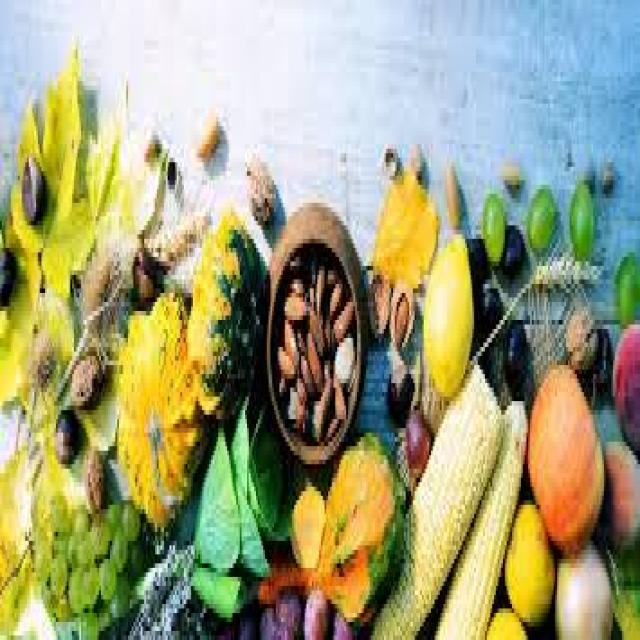biodegradable: (368, 361, 501, 636), (114, 284, 207, 532), (188, 392, 292, 613), (8, 45, 98, 298), (433, 397, 526, 636), (0, 194, 74, 428), (314, 428, 402, 622), (184, 207, 263, 419), (525, 361, 602, 555), (0, 415, 65, 636), (474, 243, 600, 356), (422, 230, 470, 397), (372, 158, 437, 279), (128, 537, 200, 636), (83, 72, 128, 225), (503, 496, 553, 622), (554, 537, 610, 636), (597, 537, 638, 636), (610, 316, 639, 451), (602, 437, 638, 541), (87, 234, 125, 329), (148, 207, 209, 266), (256, 555, 314, 609), (289, 478, 325, 559), (69, 343, 105, 406), (564, 298, 595, 370), (244, 149, 273, 225), (27, 325, 56, 397), (130, 244, 162, 307), (568, 176, 591, 261), (388, 271, 411, 352), (527, 180, 554, 248), (615, 248, 638, 324), (474, 279, 503, 338), (53, 406, 80, 469), (386, 361, 415, 419), (503, 316, 526, 388), (366, 266, 389, 338), (22, 149, 45, 221), (404, 406, 429, 469), (301, 582, 330, 636), (483, 189, 503, 266), (272, 582, 299, 636), (485, 600, 525, 636), (592, 320, 610, 392), (444, 158, 462, 230), (499, 225, 523, 275), (332, 329, 353, 383), (29, 528, 50, 582), (85, 442, 101, 509), (63, 563, 83, 613), (467, 230, 487, 279), (298, 352, 318, 401), (27, 478, 45, 532), (195, 113, 216, 158), (303, 329, 319, 388), (110, 568, 133, 608), (231, 604, 260, 635), (0, 243, 14, 306), (328, 600, 352, 636), (307, 302, 323, 356), (43, 586, 67, 622), (258, 604, 285, 635), (282, 316, 298, 361), (119, 496, 137, 536), (98, 550, 114, 595), (70, 496, 90, 532), (49, 492, 69, 528), (83, 554, 97, 604), (597, 158, 618, 189), (279, 289, 303, 316), (330, 379, 348, 415), (310, 397, 328, 433), (47, 550, 63, 590), (328, 266, 341, 315), (274, 343, 294, 374), (294, 379, 305, 433), (381, 144, 399, 176), (334, 298, 350, 334), (125, 536, 143, 568), (63, 523, 81, 554), (108, 528, 123, 564), (90, 514, 105, 550), (78, 527, 94, 559), (411, 135, 422, 180), (501, 158, 519, 185), (106, 496, 119, 532), (51, 523, 67, 550), (323, 252, 334, 284), (314, 261, 321, 311), (166, 158, 177, 185), (323, 365, 330, 406), (291, 271, 300, 298)
